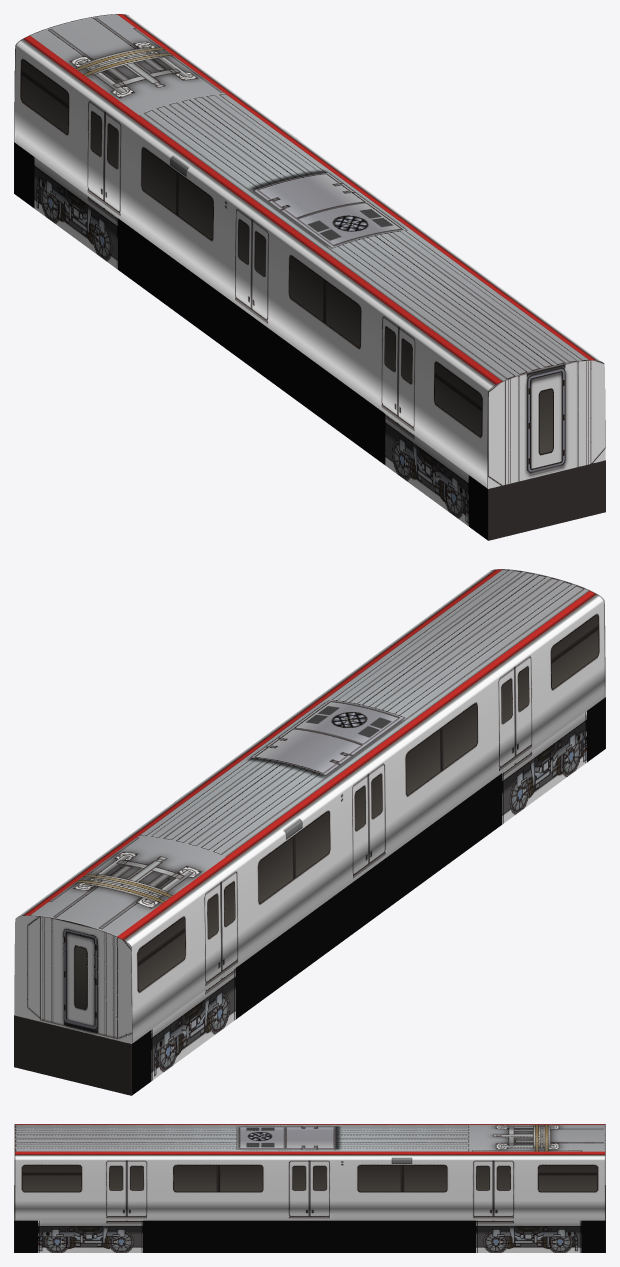
Rendered from car4.glb.
The picture shows the model from 3 angles, top to bottom: view 1: azimuth 30°, elevation 25°; view 2: azimuth 150°, elevation 25°; view 3: azimuth 270°, elevation 25°; orthographic projection. The views are drawn at different scales.
Parts seen in each view (by area): view 1: meitetsu-2200-car4; view 2: meitetsu-2200-car4; view 3: meitetsu-2200-car4.
Boxes of the visible parts, left/top/right/bottom form: meitetsu-2200-car4: left=14, top=14, right=605, bottom=540; meitetsu-2200-car4: left=14, top=569, right=605, bottom=1095; meitetsu-2200-car4: left=14, top=1124, right=605, bottom=1252.
Bounding box in the file's own units: 2.7 × 3.48 × 18.85.
8 materials, 7 textured.
